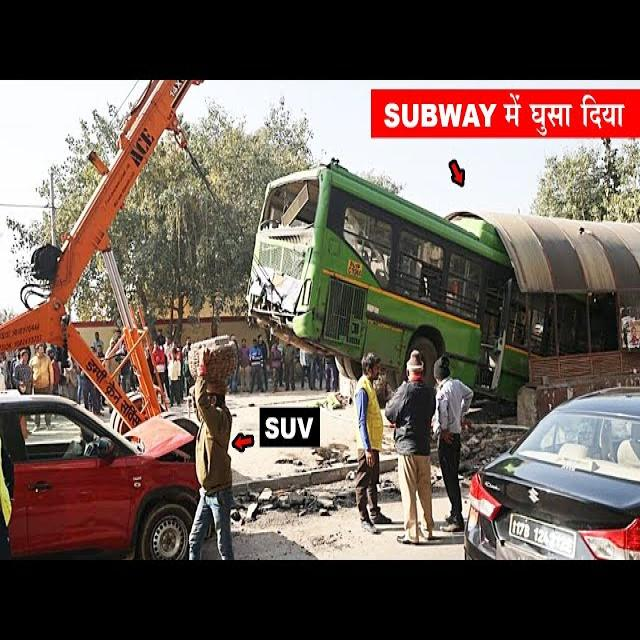accident: (248, 162, 528, 399), (0, 394, 199, 560)
